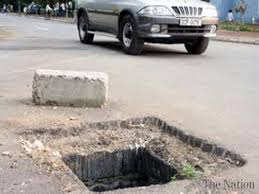Manhole-Open: (29, 116, 246, 193)
car: (72, 1, 227, 61)
